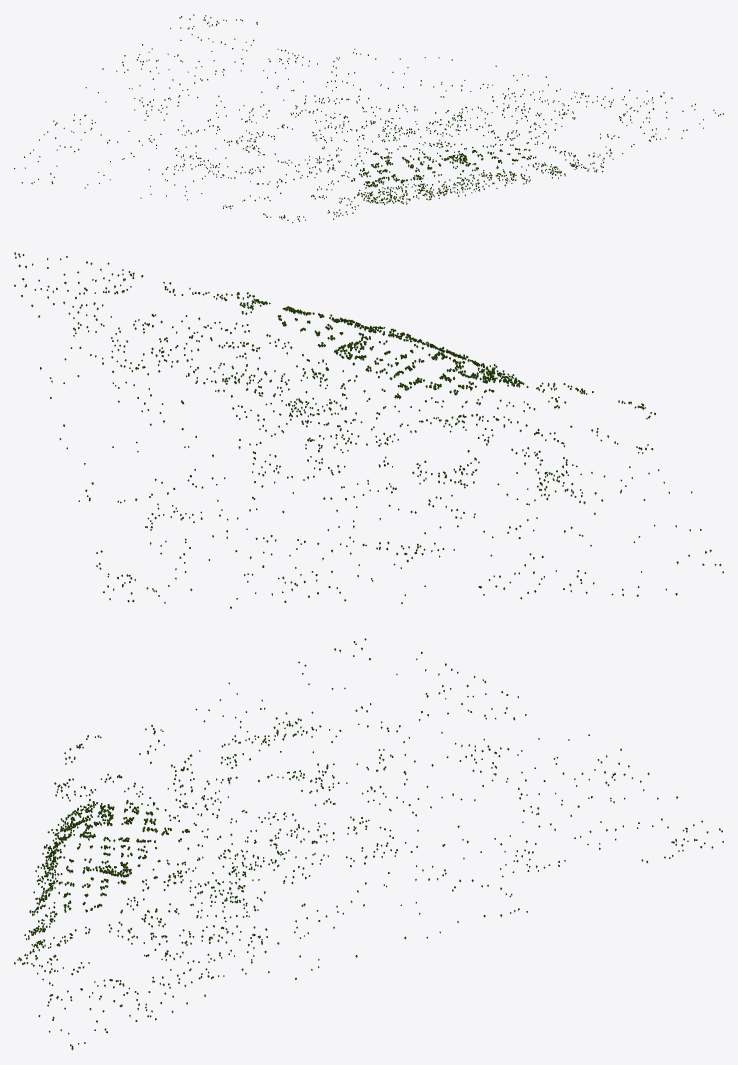
The model's file is SingleTrees.fbx.
3 views of the same model, one above another, from view 1: azimuth 30°, elevation 25°; view 2: azimuth 150°, elevation 25°; view 3: azimuth 270°, elevation 25° (orthographic). The views are drawn at different scales.
Visible parts, largest first — view 1: SingleTrees; view 2: SingleTrees; view 3: SingleTrees.
Boxes of the visible parts, left/top/right/bottom form: SingleTrees: left=14, top=14, right=723, bottom=222; SingleTrees: left=14, top=252, right=723, bottom=608; SingleTrees: left=14, top=638, right=723, bottom=1050.
Bounding box in the file's own units: 290057 × 8468 × 212537.
